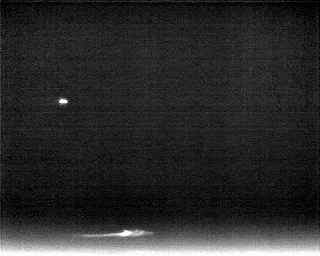AIRPLANE: (57, 96, 70, 107)
